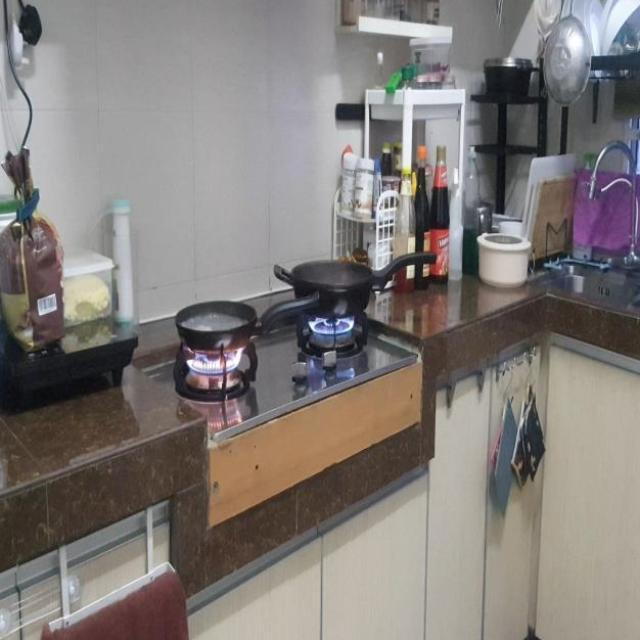smoke: (180, 348, 247, 376), (307, 315, 357, 338)
